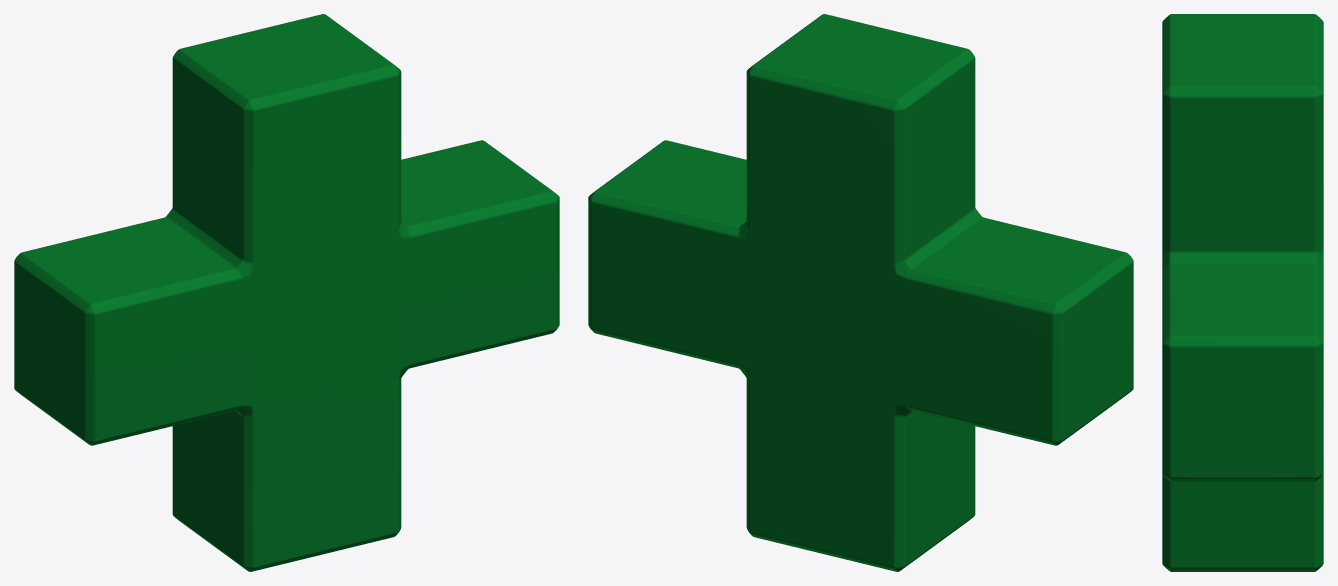
The model's file is HealthPickUp.fbx.
3 renders of one model, left to right at view 1: azimuth 30°, elevation 25°; view 2: azimuth 150°, elevation 25°; view 3: azimuth 270°, elevation 25°, orthographic. The views are drawn at different scales.
Visible parts, largest first — view 1: LifePickup; view 2: LifePickup; view 3: LifePickup.
Part boxes in pixels (x1,y1,x2,y2): LifePickup: [14, 14, 559, 571]; LifePickup: [588, 14, 1133, 571]; LifePickup: [1162, 14, 1323, 571].
Size of the model in its own units: 1.49 by 1.41 by 0.4262.
